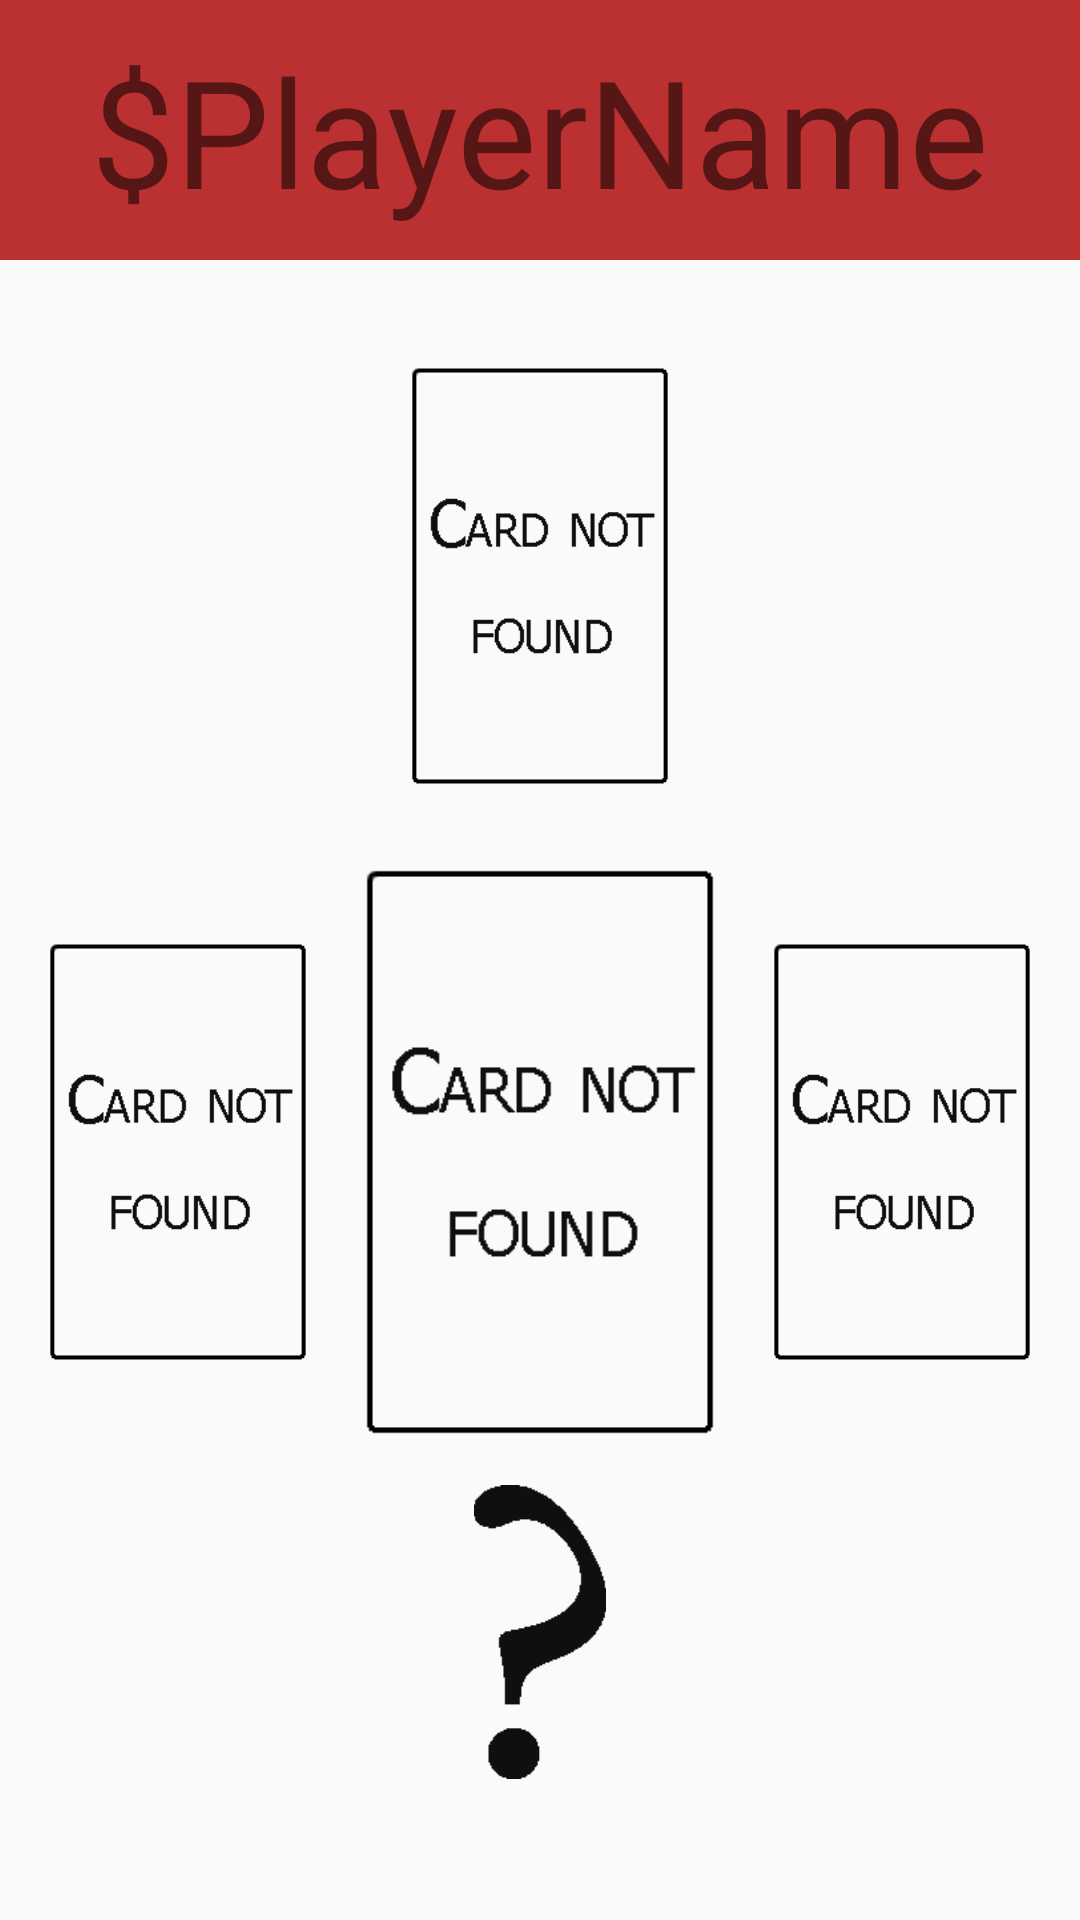

Screen size 1080×1920. Icon name, then its box in pixels as (x1, y1, x2, y2):
questionmark: (474, 1485, 606, 1779)
